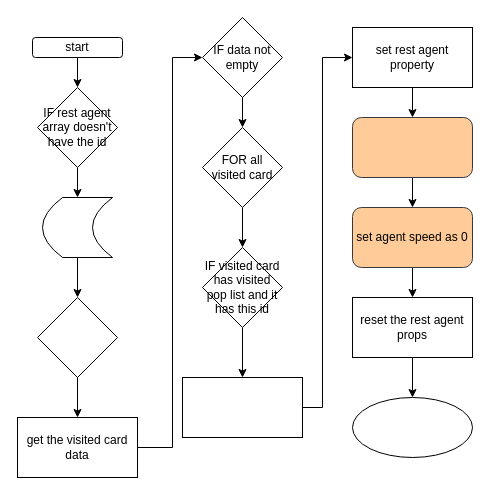
Some shapes in this 490 by 495 pixel diagram are drawn without their labels. Here are the shapes that lost their labels. From the top down, the centre of each, then its label:
At [412,147]: "set agent position out of arena".
At [77,227]: "store the id".
At [77,337]: "IF pop has visited card arrya".
At [242,407]: "remove the id into visited pop list".
At [412,427]: "end".
